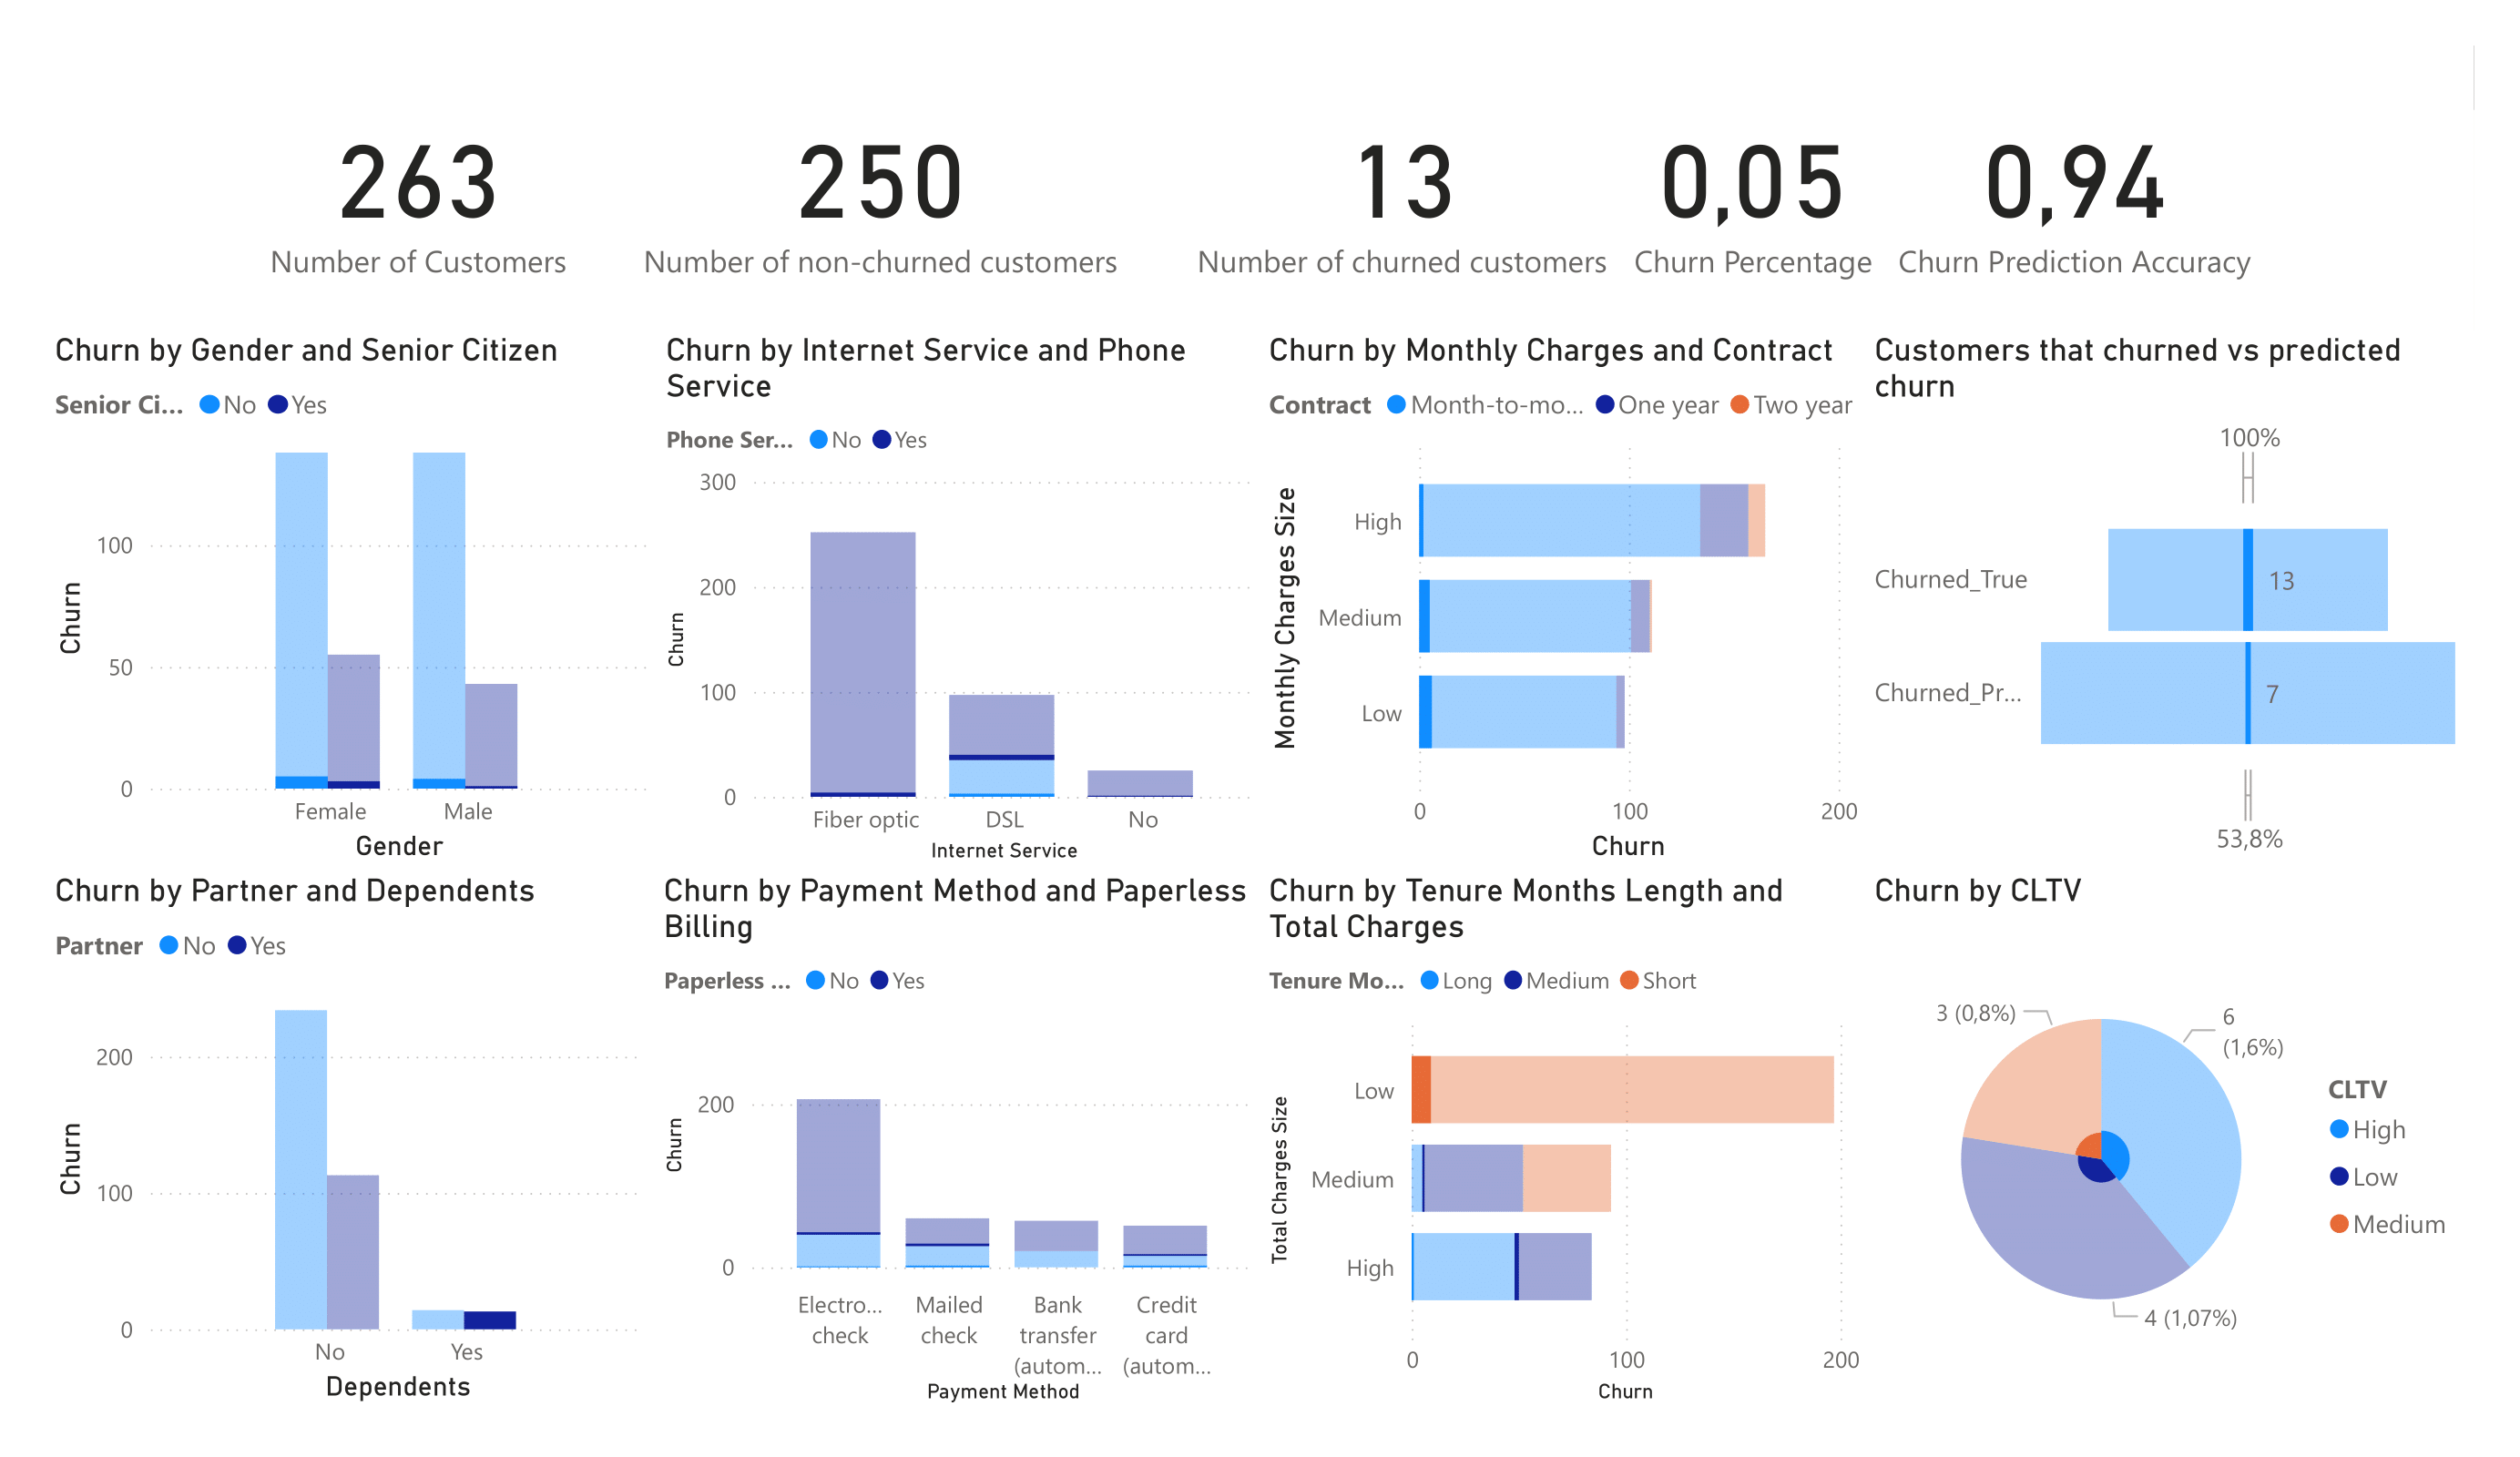

Layout of this report page (visuals, bound fields, positions):
{"tool":"powerbi","page":{"name":"Side 1","canvas":[1280,720],"ordinal":0},"visuals":[{"type":"card","fields":{"Values":["Avg(Forespørgsel1.y_true)"]},"box":[829.7,0,140.1,149.8],"z":0},{"type":"pieChart","title":"Churn by CLTV","fields":{"Y":["Sum(Attributes.y_true)"],"Category":["Attributes.CLTV Size"]},"box":[959,434.8,321,285],"z":1000},{"type":"card","fields":{"Values":["Attributes.Churn Prediction Accuracy"]},"box":[969.7,0,199.4,149.8],"z":2000},{"type":"barChart","title":"Churn by Tenure Months Length and Total Charges","fields":{"Category":["Attributes.Total Charges Size"],"Series":["Attributes.Tenure Months Length"],"Y":["Sum(Attributes.y_true)"]},"box":[640,434.8,321,285],"z":3000},{"type":"barChart","title":"Churn by Monthly Charges and Contract","fields":{"Category":["Attributes.Monthly Charges Size"],"Y":["Sum(Attributes.y_true)"],"Series":["Attributes.Contract"]},"box":[640,149.8,320,285],"z":4000},{"type":"columnChart","title":"Churn by Payment Method and Paperless Billing","fields":{"Category":["Attributes.Payment Method"],"Y":["Sum(Attributes.y_true)"],"Series":["Attributes.Paperless Billing"]},"box":[321,434.8,321,285],"z":5000},{"type":"columnChart","title":"Churn by Internet Service and Phone Service","fields":{"Category":["Attributes.Internet Service"],"Y":["Sum(Attributes.y_true)"],"Series":["Attributes.Phone Service"]},"box":[321.9,149.8,320,285],"z":6000},{"type":"clusteredColumnChart","title":"Churn by Partner and Dependents","fields":{"Category":["Attributes.Dependents"],"Series":["Attributes.Partner"],"Y":["Sum(Attributes.y_true)"]},"box":[0,434.8,321,285],"z":7000},{"type":"clusteredColumnChart","title":"Churn by Gender and Senior Citizen","fields":{"Category":["Attributes.Gender"],"Series":["Attributes.Senior Citizen"],"Y":["Sum(Attributes.y_true)"]},"box":[0,149.8,321.9,285],"z":8000},{"type":"funnel","title":"Customers that churned vs predicted churn","fields":{"Y":["Sum(Attributes.y_true)","Sum(Attributes.y_pred)"]},"box":[959,149.8,321,285],"z":9000},{"type":"card","fields":{"Values":["CountNonNull(Attributes.y_true)"]},"box":[110.9,0,171.2,149.8],"z":10000},{"type":"card","fields":{"Values":["CountNonNull(Attributes.y_true)"]},"box":[600.1,0,229.5,149.8],"z":11000},{"type":"card","fields":{"Values":["CountNonNull(Attributes.y_true)"]},"box":[280.1,0,320,149.8],"z":12000}]}

Visuals, with their boxes in screenshot pixels (x1, y1, x2, y2):
card - Avg(Forespørgsel1.y_true): 1764/66/2026/346
"Churn by CLTV" pieChart: 2006/880/2519/1413
card - Attributes.Churn Prediction Accuracy: 2026/66/2400/346
"Churn by Tenure Months Length and Total Charges" barChart: 1409/880/2010/1413
"Churn by Monthly Charges and Contract" barChart: 1409/346/2008/880
"Churn by Payment Method and Paperless Billing" columnChart: 811/880/1413/1413
"Churn by Internet Service and Phone Service" columnChart: 812/346/1412/880
"Churn by Partner and Dependents" clusteredColumnChart: 210/880/811/1413
"Churn by Gender and Senior Citizen" clusteredColumnChart: 210/346/812/880
"Customers that churned vs predicted churn" funnel: 2006/346/2519/880
card - CountNonNull(Attributes.y_true): 418/66/739/346
card - CountNonNull(Attributes.y_true): 1334/66/1763/346
card - CountNonNull(Attributes.y_true): 735/66/1334/346
